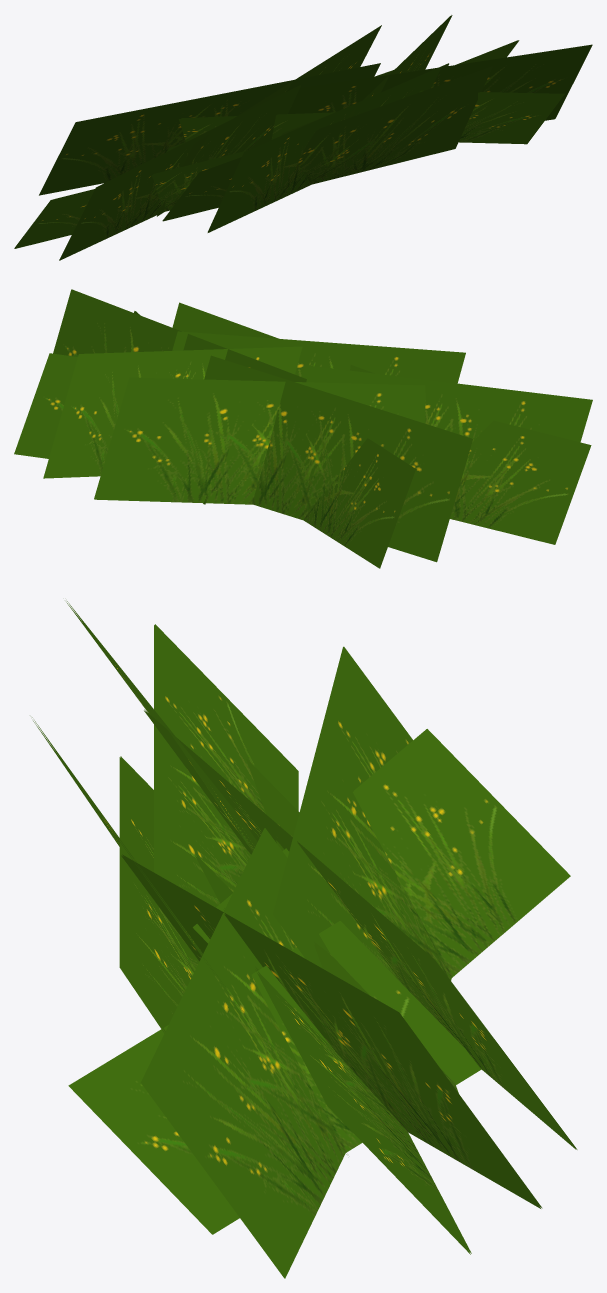
File: 10101_glass01.FBX
The picture shows the model from 3 angles, top to bottom: view 1: azimuth 30°, elevation 25°; view 2: azimuth 150°, elevation 25°; view 3: azimuth 270°, elevation 25°; orthographic projection. The views are drawn at different scales.
Parts seen in each view (by area): view 1: 10101_glass01; view 2: 10101_glass01; view 3: 10101_glass01.
Boxes of the visible parts, <box> form: 10101_glass01: <box>14,15,592,260</box>; 10101_glass01: <box>14,289,592,568</box>; 10101_glass01: <box>32,601,577,1278</box>.
Size of the model in its own units: 671 by 132 by 305.
